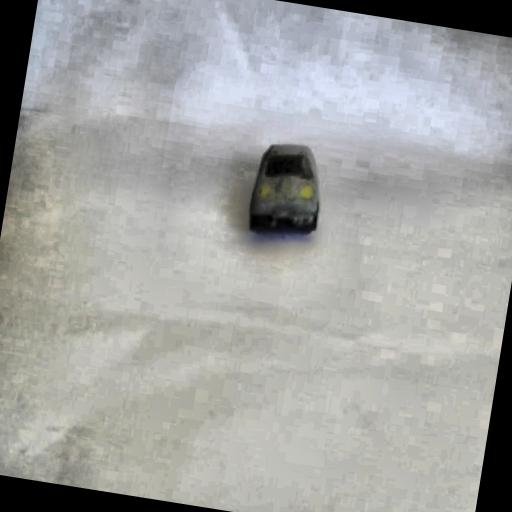normal_car: (240, 136, 330, 246)
